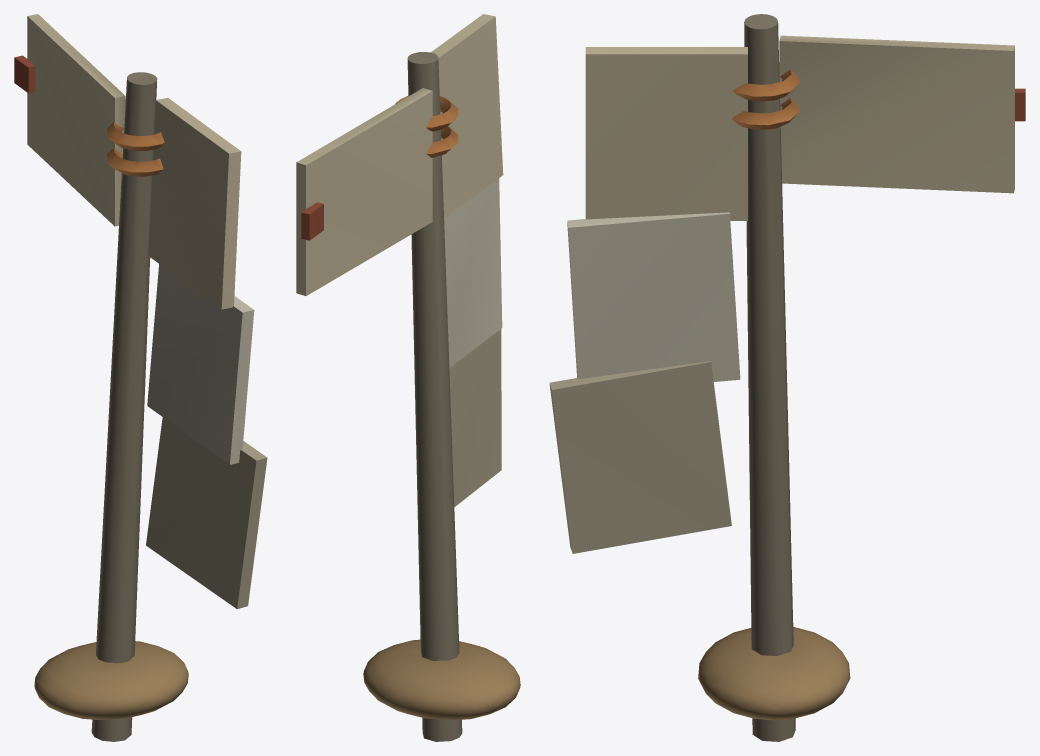
File: keeper_bunting_a_lod1.glb
The picture shows the model from 3 angles, left to right: view 1: azimuth 30°, elevation 25°; view 2: azimuth 150°, elevation 25°; view 3: azimuth 270°, elevation 25°; orthographic projection. The views are drawn at different scales.
Visible parts, largest first — view 1: Surface.001; view 2: Surface.001; view 3: Surface.001.
Part boxes in pixels (x1=…): Surface.001: x1=14, y1=14, x2=267, y2=741; Surface.001: x1=296, y1=14, x2=520, y2=741; Surface.001: x1=549, y1=14, x2=1025, y2=741.
Size of the model in its own units: 0.6776 by 3.06 by 1.82.
